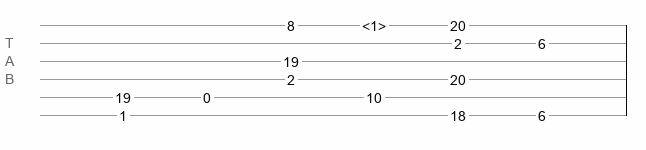0: (203, 90, 211, 100)
1: (119, 108, 127, 118)
10: (366, 90, 382, 100)
18: (450, 108, 466, 118)
19: (115, 90, 131, 100), (283, 54, 299, 64)
2: (287, 72, 295, 82), (454, 36, 462, 46)
20: (450, 18, 466, 28), (450, 72, 466, 82)
6: (538, 36, 546, 46), (538, 108, 546, 118)
8: (287, 18, 295, 28)
harmonic: (362, 18, 386, 28)
